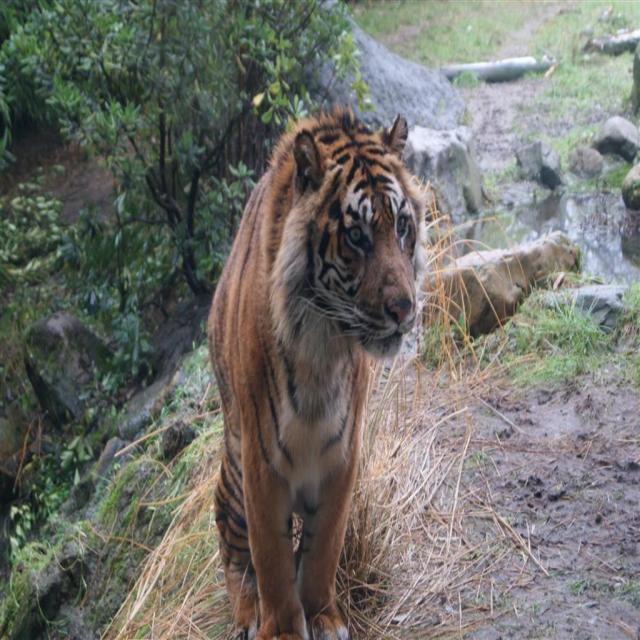Tiger: (206, 108, 421, 639)
